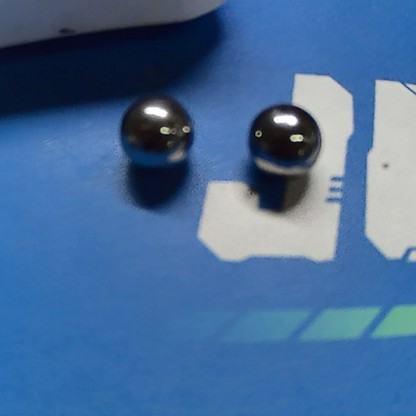ironball: (227, 90, 332, 188), (111, 88, 201, 159)
